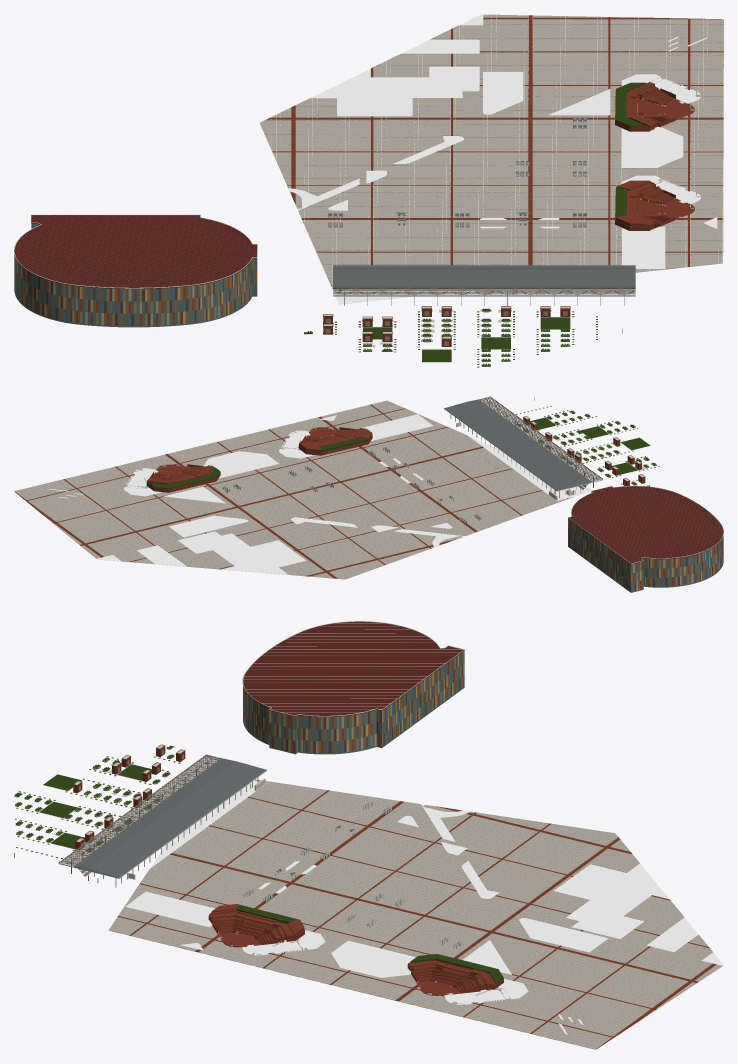
Rendered from venue-bm-elements.glb.
The picture shows the model from 3 angles, top to bottom: view 1: azimuth 30°, elevation 25°; view 2: azimuth 150°, elevation 25°; view 3: azimuth 270°, elevation 25°; orthographic projection. The views are drawn at different scales.
Parts seen in each view (by area): view 1: Plaza solid slab islands 2, Plaza solid slab islands 3, Plaza solid slab islands 0, Plaza solid slab islands 1, Plaza patterned paving, Hall 14 roof, Plaza solid slab islands 4, Hall 14 vertical cladding bays, Central canopy remaining solid roof panels, Hall 14 envelope, Canopy front individual metal grating bars, Hall 14 roof coping (+4 smaller); view 2: Plaza solid slab islands 2, Plaza solid slab islands 3, Plaza solid slab islands 0, Plaza solid slab islands 1, Plaza patterned paving, Hall 14 roof, Plaza solid slab islands 4, Central canopy remaining solid roof panels, Hall 14 vertical cladding bays, Hall 14 envelope, Canopy front individual metal grating bars, North seating / paving band 90 (+1 smaller); view 3: Plaza solid slab islands 2, Plaza solid slab islands 3, Plaza solid slab islands 0, Plaza solid slab islands 1, Plaza patterned paving, Hall 14 roof, Plaza solid slab islands 4, Central canopy remaining solid roof panels, Hall 14 vertical cladding bays, Hall 14 envelope, Hall 14 standing seams, Canopy front individual metal grating bars (+1 smaller).
Boxes of the visible parts, x1,y1,x2,y2 form: Plaza solid slab islands 2: [260, 14, 723, 288]; Plaza solid slab islands 3: [260, 14, 723, 288]; Plaza solid slab islands 0: [260, 14, 723, 287]; Plaza solid slab islands 1: [260, 14, 723, 289]; Plaza patterned paving: [263, 14, 722, 304]; Hall 14 roof: [14, 215, 256, 288]; Plaza solid slab islands 4: [266, 15, 723, 286]; Hall 14 vertical cladding bays: [14, 256, 257, 325]; Central canopy remaining solid roof panels: [333, 265, 635, 287]; Hall 14 envelope: [14, 224, 257, 327]; Canopy front individual metal grating bars: [333, 288, 635, 295]; Hall 14 roof coping: [14, 214, 257, 288]; Plaza solid slab islands 2: [14, 400, 571, 578]; Plaza solid slab islands 3: [17, 401, 570, 579]; Plaza solid slab islands 0: [16, 400, 569, 578]; Plaza solid slab islands 1: [15, 401, 572, 579]; Plaza patterned paving: [14, 414, 592, 579]; Hall 14 roof: [568, 486, 723, 564]; Plaza solid slab islands 4: [14, 404, 568, 578]; Central canopy remaining solid roof panels: [444, 399, 591, 490]; Hall 14 vertical cladding bays: [568, 492, 723, 591]; Hall 14 envelope: [568, 515, 723, 592]; Canopy front individual metal grating bars: [479, 396, 602, 481]; North seating / paving band 90: [148, 467, 220, 489]; Plaza solid slab islands 2: [109, 780, 721, 1049]; Plaza solid slab islands 3: [109, 780, 722, 1048]; Plaza solid slab islands 0: [109, 779, 720, 1048]; Plaza solid slab islands 1: [109, 779, 721, 1048]; Plaza patterned paving: [108, 780, 723, 1049]; Hall 14 roof: [243, 621, 464, 716]; Plaza solid slab islands 4: [117, 790, 716, 1049]; Central canopy remaining solid roof panels: [74, 758, 266, 877]; Hall 14 vertical cladding bays: [243, 651, 464, 753]; Hall 14 envelope: [243, 650, 464, 754]; Hall 14 standing seams: [243, 623, 463, 712]; Canopy front individual metal grating bars: [59, 754, 220, 865].
Size of the model in its own units: 559 by 25.83 by 430.
